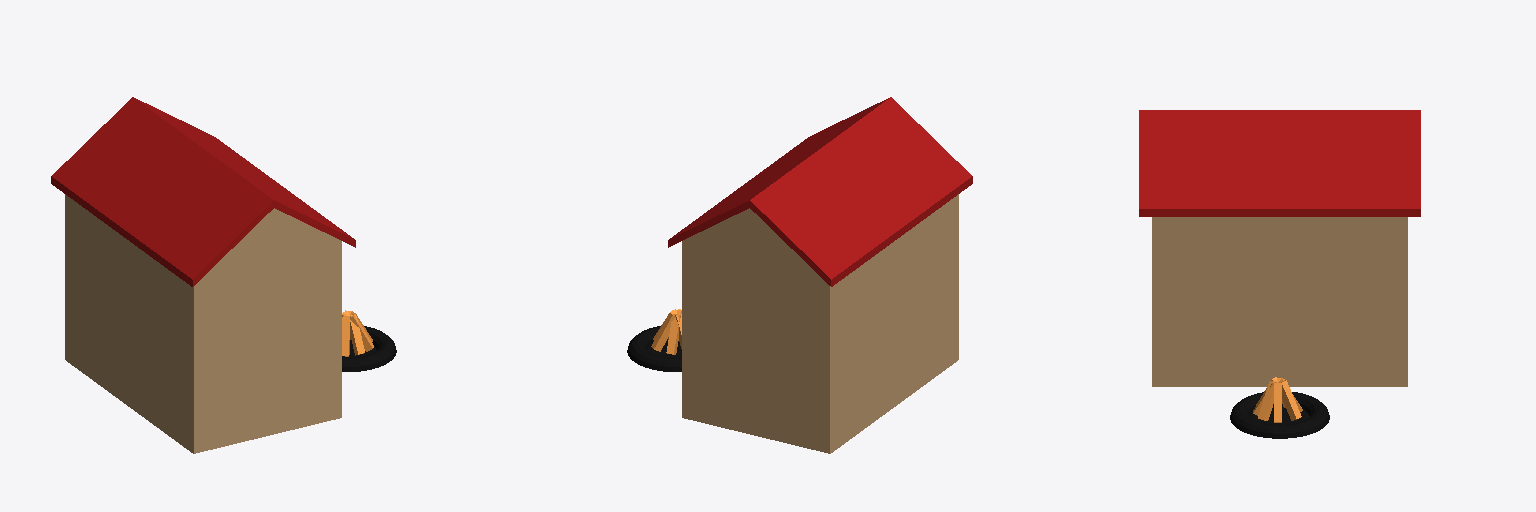
The model's file is BCityHall0.obj.
3 renders of one model, left to right at view 1: azimuth 30°, elevation 25°; view 2: azimuth 150°, elevation 25°; view 3: azimuth 270°, elevation 25°, orthographic.
Parts seen in each view (by area): view 1: BCityHall0; view 2: BCityHall0; view 3: BCityHall0.
Boxes of the visible parts, <box> form: BCityHall0: <box>51,97,396,453</box>; BCityHall0: <box>627,97,972,453</box>; BCityHall0: <box>1139,110,1420,438</box>.
Bounding box in the file's own units: 5.42 × 4.65 × 4.95.